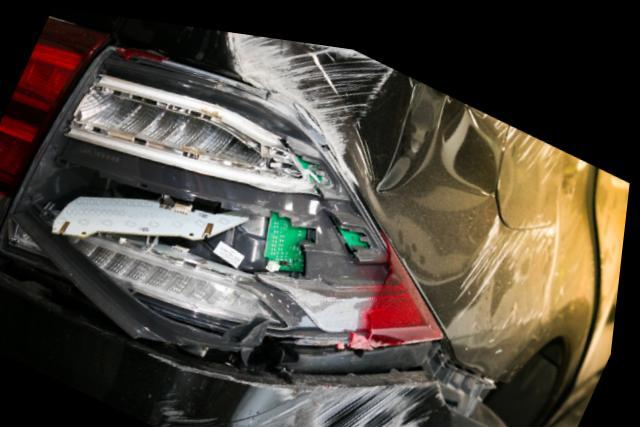dent: (371, 64, 499, 264)
lamp broken: (13, 43, 456, 360)
scratch: (221, 25, 396, 175), (156, 346, 452, 427), (464, 204, 560, 321), (487, 99, 564, 156)
